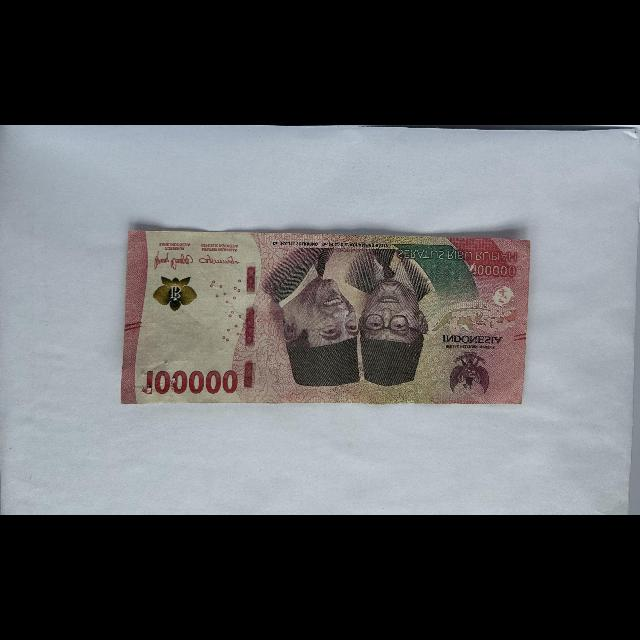Palsu-100k: (121, 229, 532, 407)
Tinta-Palsu-100k: (152, 276, 198, 313)
